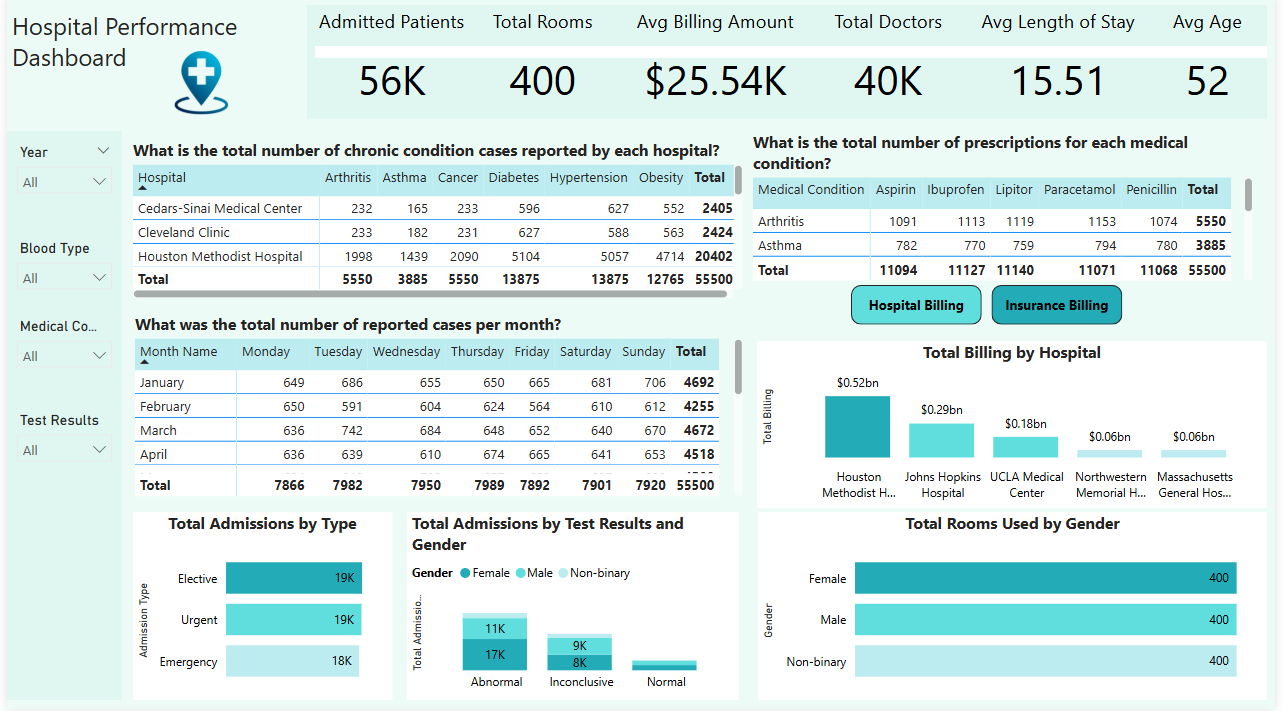

What the dashboard file says about the page in this screenshot:
{"tool":"powerbi","page":{"name":"Page 1","canvas":[1280,720],"ordinal":0},"visuals":[{"type":"shape","box":[303,9.1,969.7,115.2],"z":0},{"type":"card","title":"Admitted Patients","fields":{"Values":["Measure.Total Admissions"]},"box":[302.9,12.3,171.2,117.7],"z":1000},{"type":"card","title":"Total Rooms","fields":{"Values":["Measure.Total Rooms Used"]},"box":[458.9,12.3,165.1,117.7],"z":2000},{"type":"card","title":"Avg Billing Amount","fields":{"Values":["Measure.Avg Billing"]},"box":[630.6,12.3,170.3,117.7],"z":3000},{"type":"card","title":"Total Doctors","fields":{"Values":["Measure.Total Doctors"]},"box":[807.6,12.3,164.2,117.7],"z":4000},{"type":"card","title":"Avg Length of Stay","fields":{"Values":["Measure.Avg Length of Stay"]},"box":[978.5,12.3,166,117.7],"z":5000},{"type":"card","title":"Avg Age","fields":{"Values":["Measure.Average Age"]},"box":[1151.1,12.3,122,117.7],"z":6000},{"type":"barChart","title":"Total Admissions by Type","fields":{"Category":["Dim_AdmissionType.Admission Type"],"Y":["Measure.Total Admissions"]},"box":[127.3,521.2,261.6,189.9],"z":7000},{"type":"shape","box":[0,136.4,116.2,574.7],"z":8000},{"type":"textbox","box":[0,7.9,296.8,125.6],"z":9000},{"type":"slicer","fields":{"Values":["CalendarTable.Year"]},"box":[0,144.4,116.2,60.6],"z":16000},{"type":"pivotTable","title":"What is the total number of chronic condition cases reported by each hospital?","fields":{"Rows":["Dim_Hospital.Hospital"],"Columns":["Dim_Patient.Medical Condition"],"Values":["Measure.Total Admissions"]},"box":[122.2,144.4,626.3,165.7],"z":17000},{"type":"columnChart","fields":{"Category":["Dim_TestResult.Test Results"],"Y":["Measure.Total Admissions"],"Series":["Dim_Patient.Gender"]},"box":[404,521.2,335.4,189.9],"z":18000},{"type":"pivotTable","title":"What was the total number of reported cases per month?","fields":{"Rows":["CalendarTable.Month Name"],"Columns":["CalendarTable.Weekday Name"],"Values":["Measure.Total Admissions"]},"box":[124.2,320.2,624.2,189.9],"z":19000},{"type":"pivotTable","title":"What is the total number of prescriptions for each medical condition?","fields":{"Rows":["Dim_Patient.Medical Condition"],"Columns":["Dim_Medication.Medication"],"Values":["Measure.Total Admissions"]},"box":[748.5,136.4,515.2,155.6],"z":19002},{"type":"columnChart","fields":{"Category":["Dim_Hospital.Hospital"],"Y":["Measure.Total Billing"]},"box":[757.6,348.5,515.2,168.7],"z":19003},{"type":"clusteredBarChart","fields":{"Y":["Measure.Total Rooms Used"],"Category":["Dim_Patient.Gender"]},"box":[758.6,521.2,514.1,189.9],"z":19005},{"type":"shape","box":[311.1,50.5,961.6,12.1],"z":19006},{"type":"bookmarkNavigator","box":[852.5,291.9,274.7,40.4],"z":19007},{"type":"slicer","fields":{"Values":["Dim_Patient.Blood Type"]},"box":[0,241.4,116.2,68.7],"z":19008},{"type":"slicer","fields":{"Values":["Dim_Patient.Medical Condition"]},"box":[0,320.2,116.2,68.7],"z":19009},{"type":"slicer","fields":{"Values":["Dim_TestResult.Test Results"]},"box":[0,415.2,116.2,68.7],"z":19010},{"type":"image","box":[134.3,50.5,124.2,73.7],"z":19011}]}

Visuals, with their boxes in screenshot pixels (x1, y1, x2, y2), scaled from the page's 1280x720 canvas onto the 1284x711 screenshot:
shape: [left=304, top=9, right=1277, bottom=123]
"Admitted Patients" card: [left=304, top=12, right=476, bottom=128]
"Total Rooms" card: [left=460, top=12, right=626, bottom=128]
"Avg Billing Amount" card: [left=633, top=12, right=803, bottom=128]
"Total Doctors" card: [left=810, top=12, right=975, bottom=128]
"Avg Length of Stay" card: [left=982, top=12, right=1148, bottom=128]
"Avg Age" card: [left=1155, top=12, right=1277, bottom=128]
"Total Admissions by Type" barChart: [left=128, top=515, right=390, bottom=702]
shape: [left=0, top=135, right=117, bottom=702]
textbox: [left=0, top=8, right=298, bottom=132]
slicer - CalendarTable.Year: [left=0, top=143, right=117, bottom=202]
"What is the total number of chronic condition cases reported by each hospital?" pivotTable: [left=123, top=143, right=751, bottom=306]
columnChart - Dim_TestResult.Test Results x Measure.Total Admissions: [left=405, top=515, right=742, bottom=702]
"What was the total number of reported cases per month?" pivotTable: [left=125, top=316, right=751, bottom=504]
"What is the total number of prescriptions for each medical condition?" pivotTable: [left=751, top=135, right=1268, bottom=288]
columnChart - Dim_Hospital.Hospital x Measure.Total Billing: [left=760, top=344, right=1277, bottom=511]
clusteredBarChart - Measure.Total Rooms Used x Dim_Patient.Gender: [left=761, top=515, right=1277, bottom=702]
shape: [left=312, top=50, right=1277, bottom=62]
bookmarkNavigator: [left=855, top=288, right=1131, bottom=328]
slicer - Dim_Patient.Blood Type: [left=0, top=238, right=117, bottom=306]
slicer - Dim_Patient.Medical Condition: [left=0, top=316, right=117, bottom=384]
slicer - Dim_TestResult.Test Results: [left=0, top=410, right=117, bottom=478]
image: [left=135, top=50, right=259, bottom=123]
